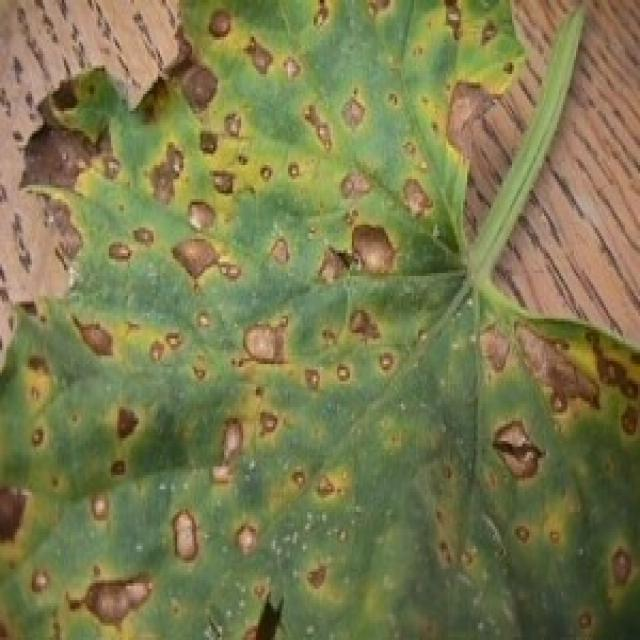Bacterial_Spot: (24, 30, 630, 625)
